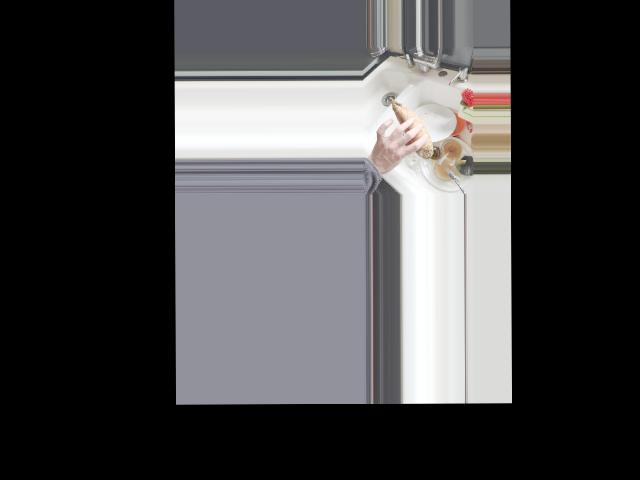sweet_potato: (389, 96, 433, 158)
